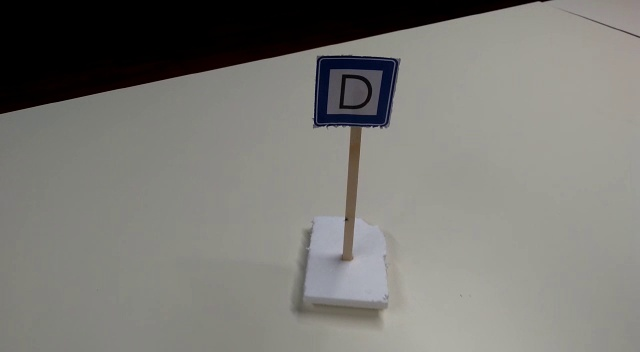durak: (313, 54, 393, 127)
